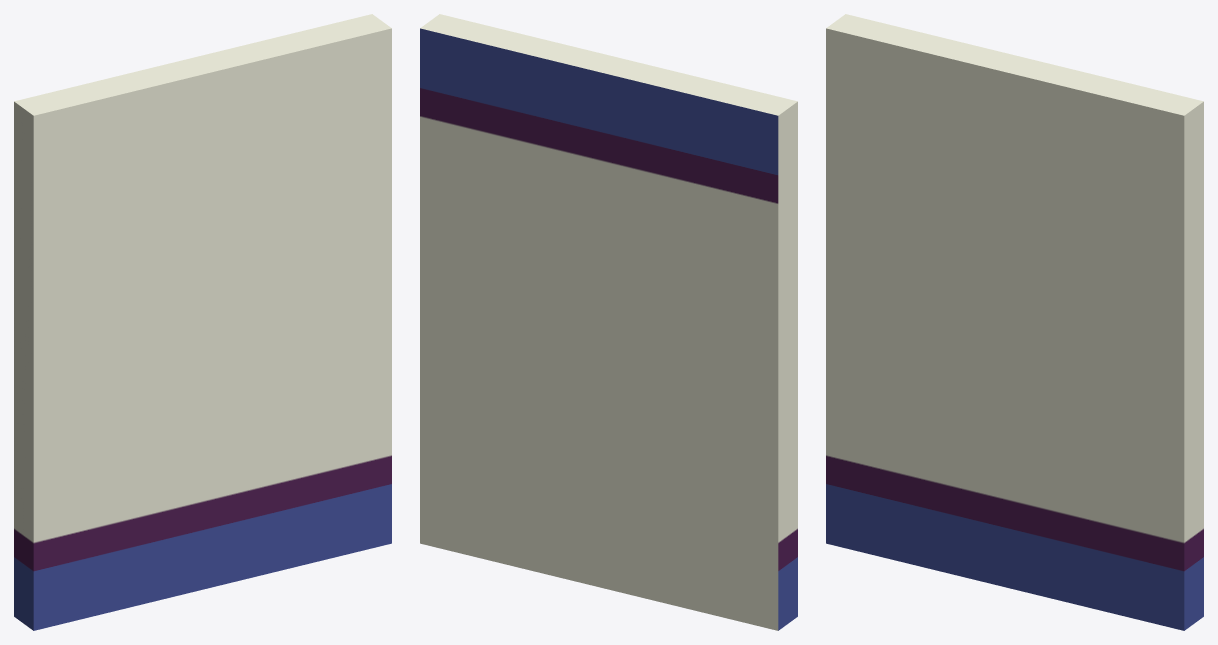
File: WallSmall_Model.fbx
3 renders of one model, left to right at view 1: azimuth 30°, elevation 25°; view 2: azimuth 150°, elevation 25°; view 3: azimuth 330°, elevation 25°, orthographic.
Visible parts, largest first — view 1: pCube2; view 2: pCube2; view 3: pCube2.
Boxes of the visible parts, x1,y1,x2,y2 form: pCube2: [14, 14, 391, 630]; pCube2: [420, 14, 797, 630]; pCube2: [826, 14, 1203, 630].
Size of the model in its own units: 5.11 by 7.02 by 0.4858.
1 material, 1 textured.
